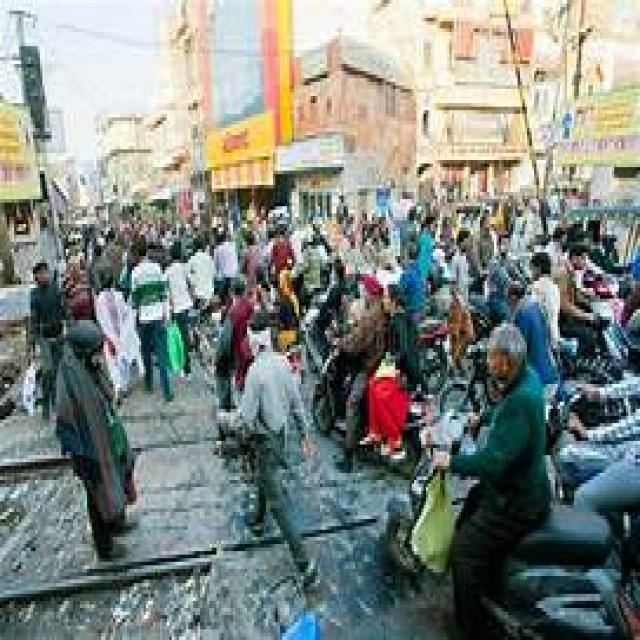Two Wheeler: (481, 504, 640, 638), (381, 451, 430, 575), (431, 412, 478, 450)
